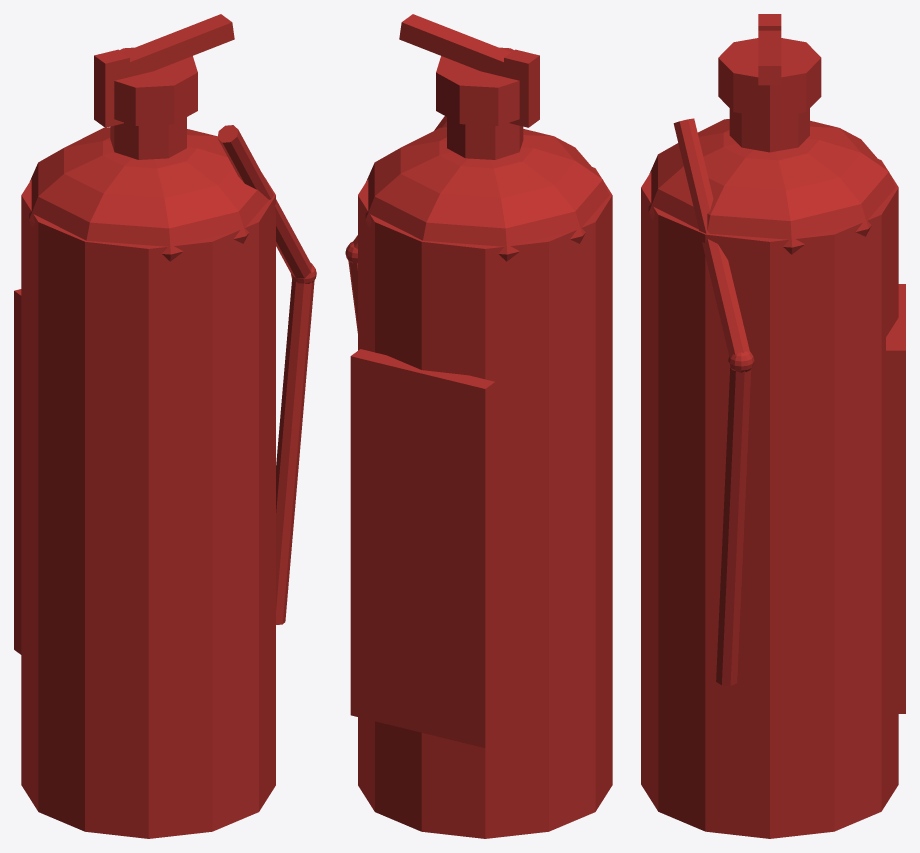
File: fire-extinguisher.glb
3 views of the same model, side by side, from view 1: azimuth 30°, elevation 25°; view 2: azimuth 150°, elevation 25°; view 3: azimuth 270°, elevation 25° (orthographic).
Visible parts, largest first — view 1: fireextinguisher_merged; view 2: fireextinguisher_merged; view 3: fireextinguisher_merged.
Part boxes in pixels (bbox=[...]): fireextinguisher_merged: bbox=[14, 14, 316, 838]; fireextinguisher_merged: bbox=[345, 14, 612, 838]; fireextinguisher_merged: bbox=[641, 14, 905, 838].
Size of the model in its own units: 0.2142 by 0.5832 by 0.185.
